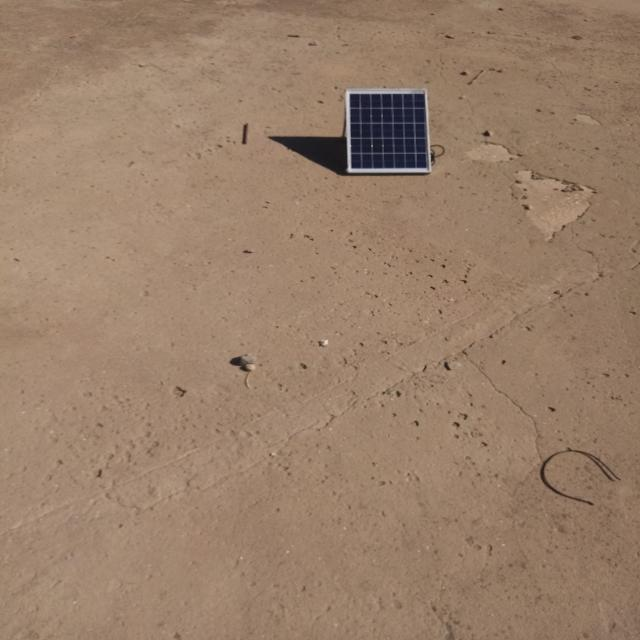no faulty: (347, 89, 430, 172)
